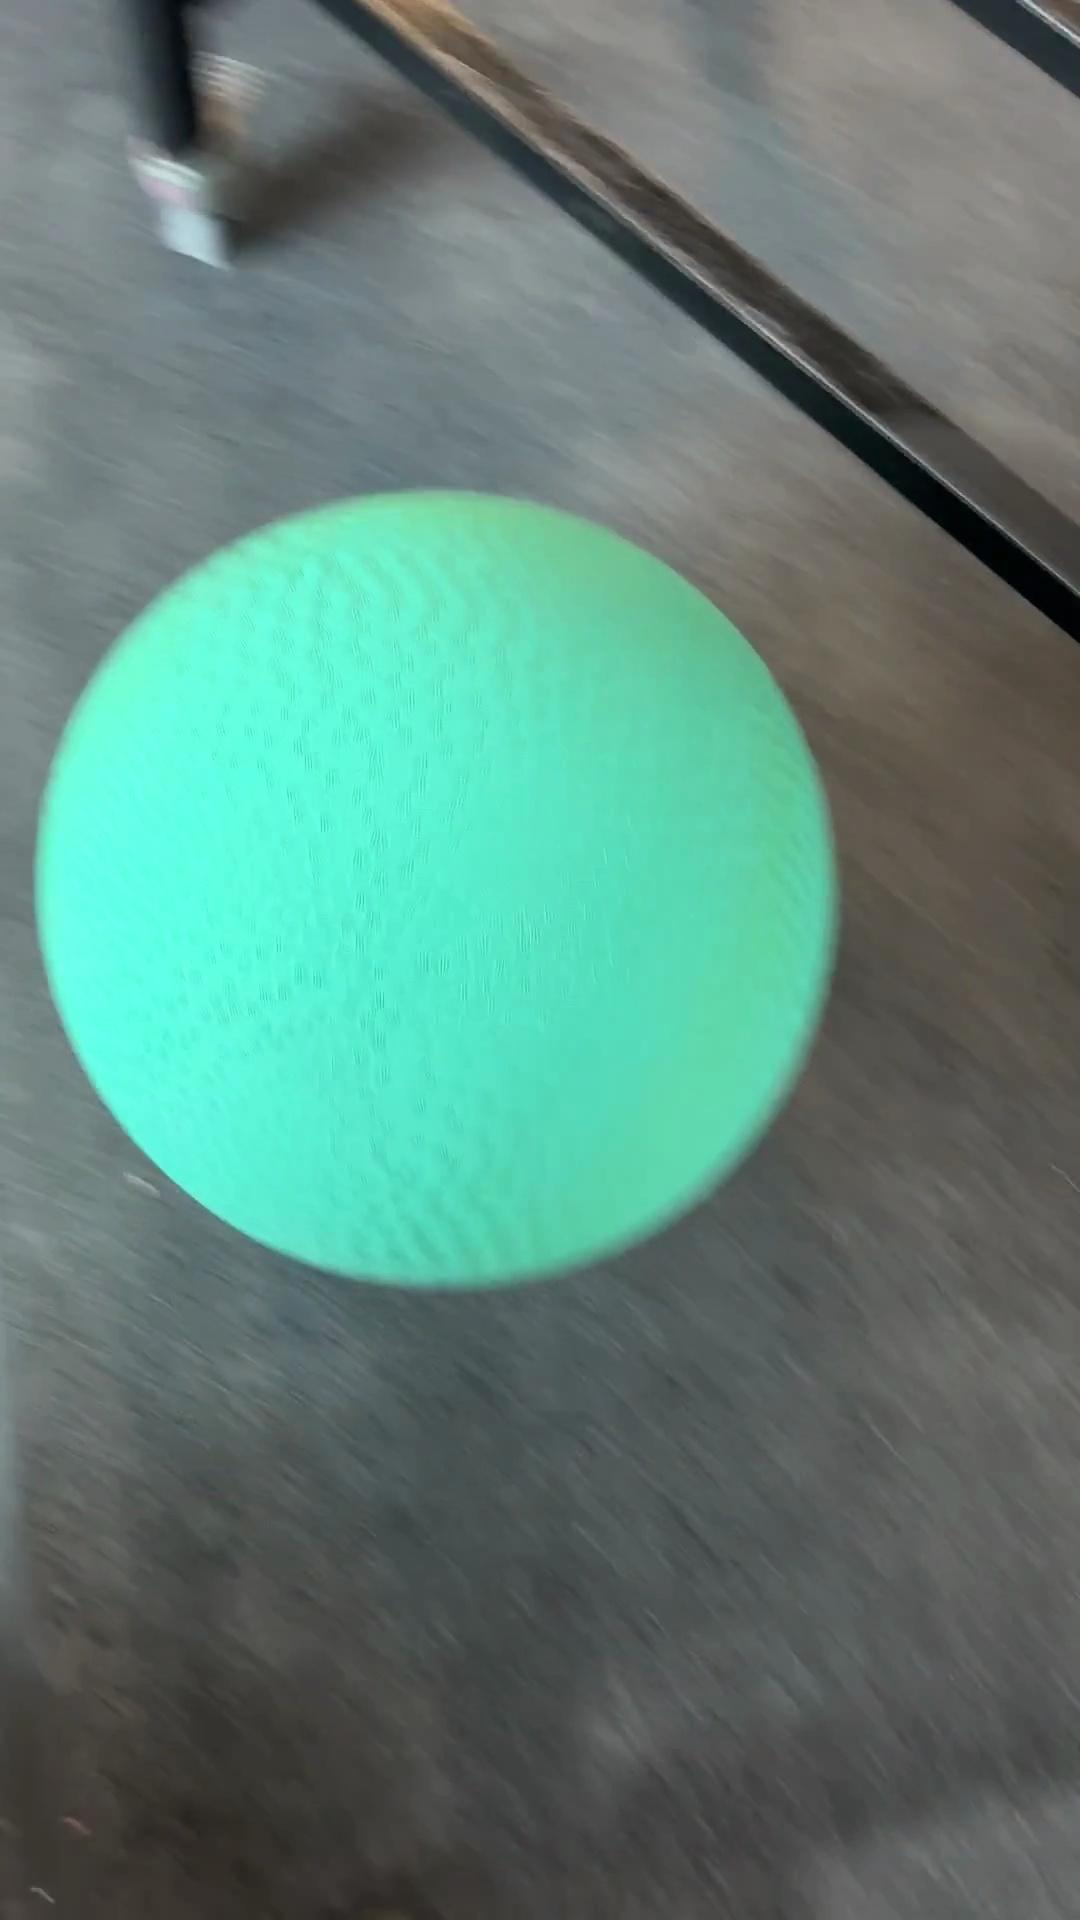ALGAE: (32, 485, 843, 1294)
